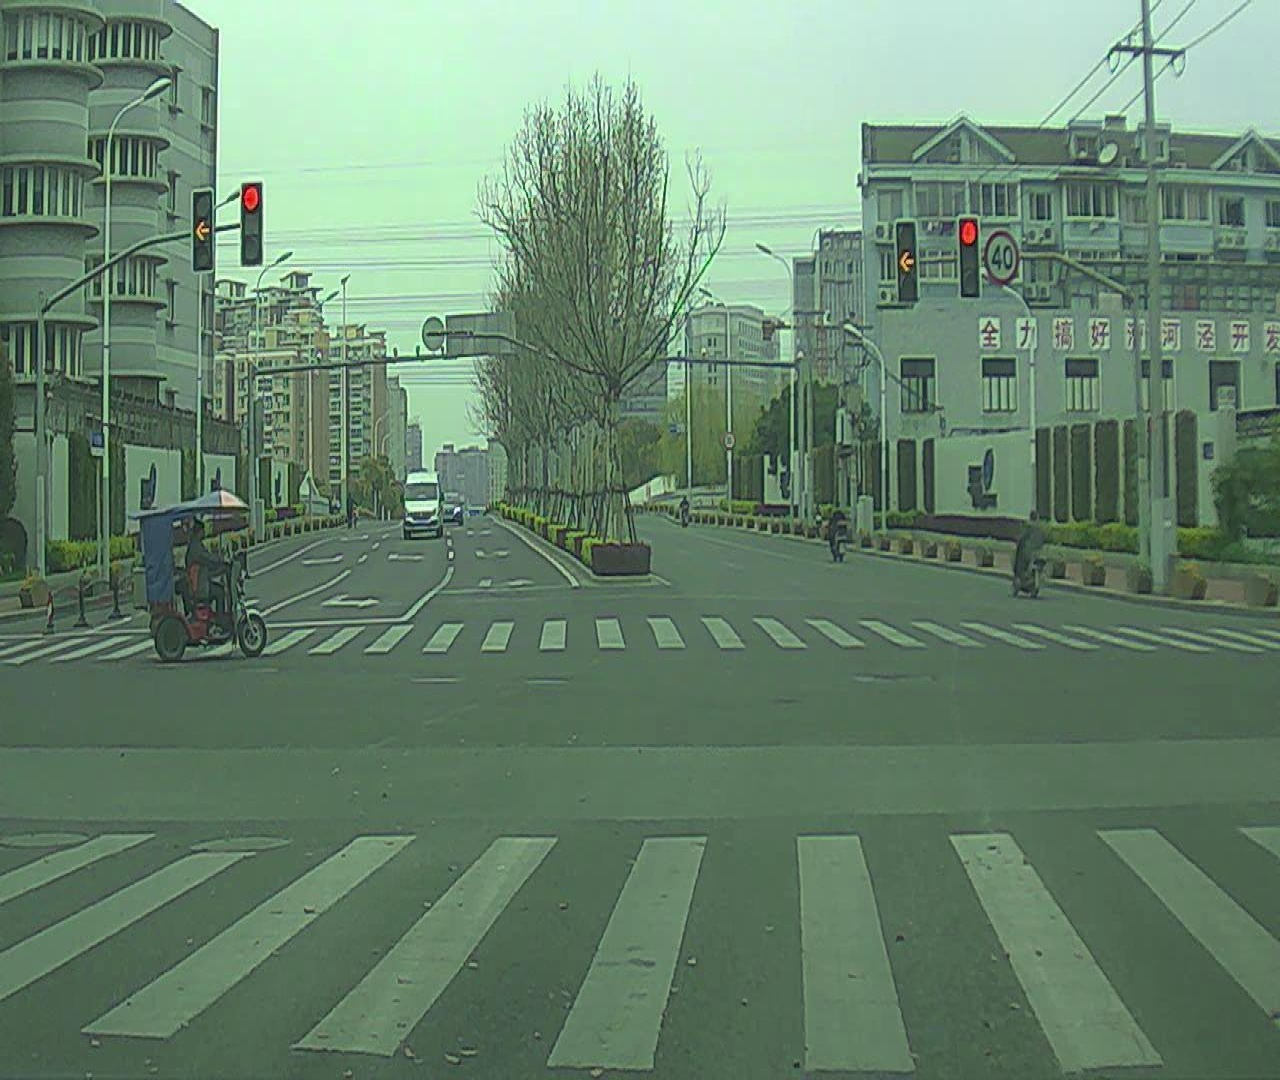red: (239, 177, 266, 270), (960, 214, 983, 303)
yellow: (190, 189, 214, 276), (897, 220, 920, 303)
